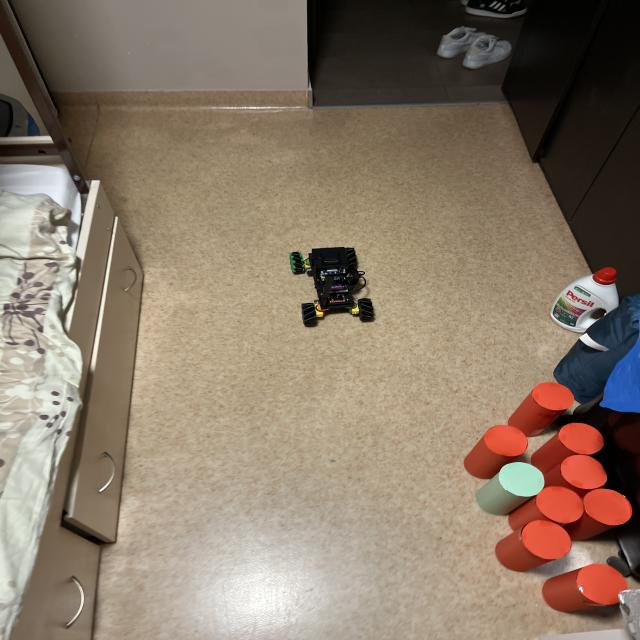robot: (290, 247, 374, 326)
